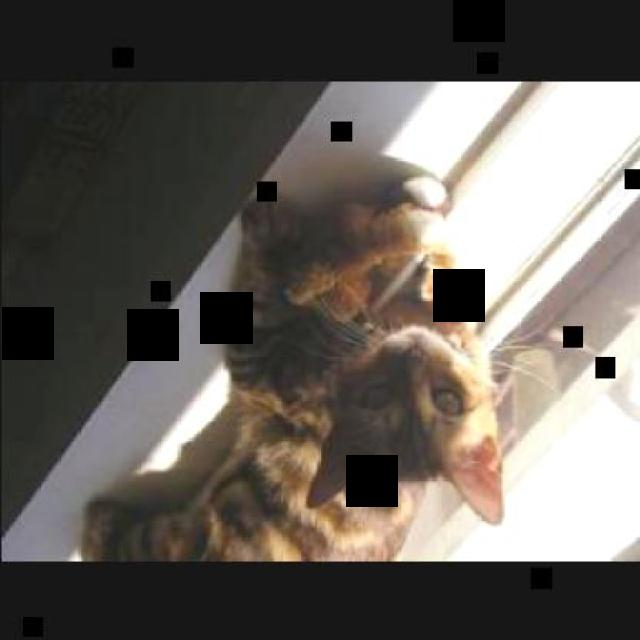unauthorized: (77, 168, 558, 562)
